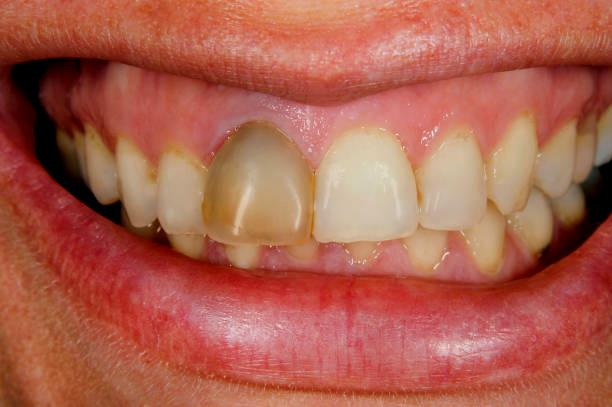Discoloration: (208, 121, 323, 256)
